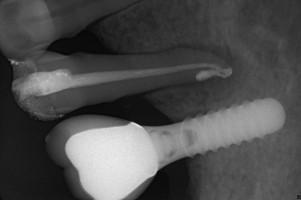Furcation Involvement: (168, 42, 249, 102)
